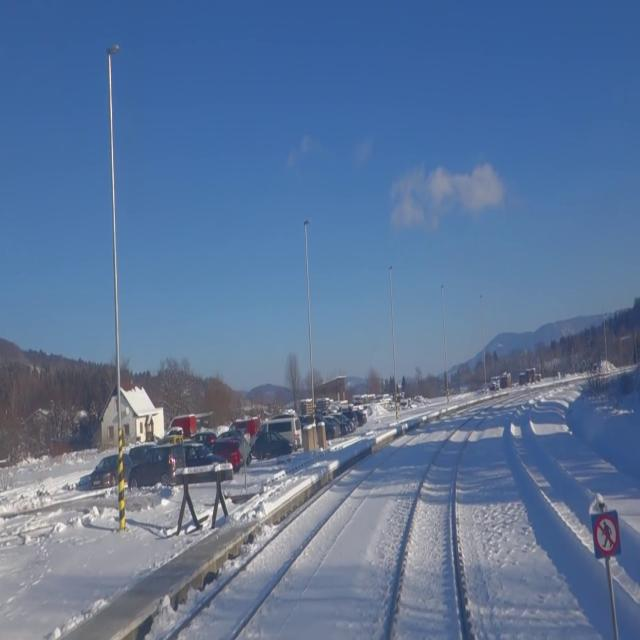rail-track: (177, 436, 407, 639), (391, 420, 477, 639), (513, 404, 599, 544), (609, 525, 640, 600)
